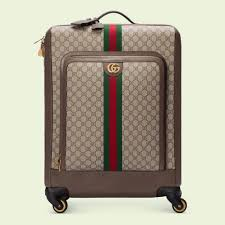suitcase: (42, 9, 189, 215)
